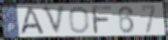6: (117, 5, 135, 34)
7: (141, 4, 158, 35)
A: (20, 6, 45, 36)
F: (91, 5, 113, 35)
O: (68, 6, 90, 35)
V: (41, 4, 68, 37)
